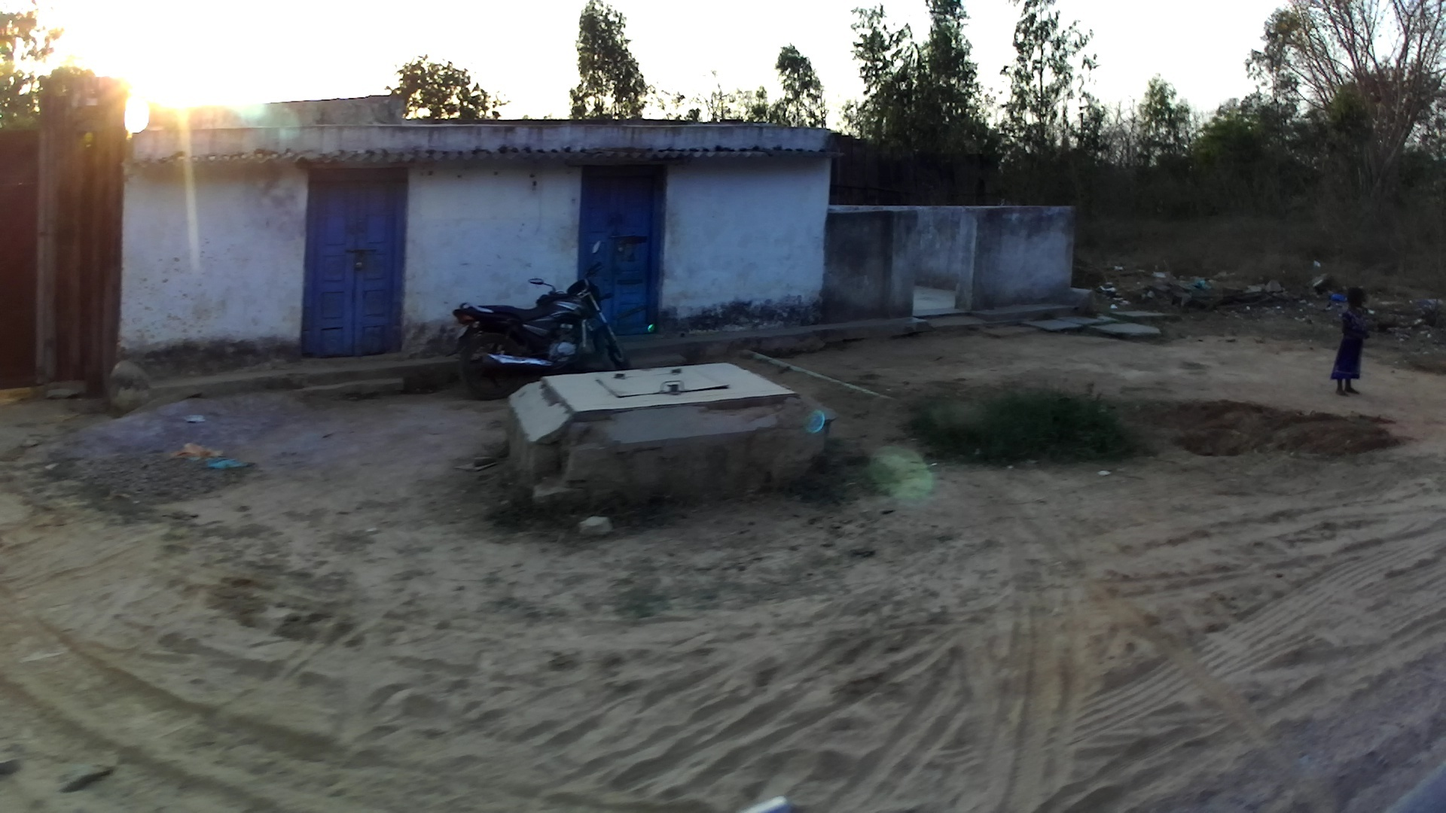motorcycle: (447, 241, 632, 400)
person: (1329, 287, 1371, 397)
